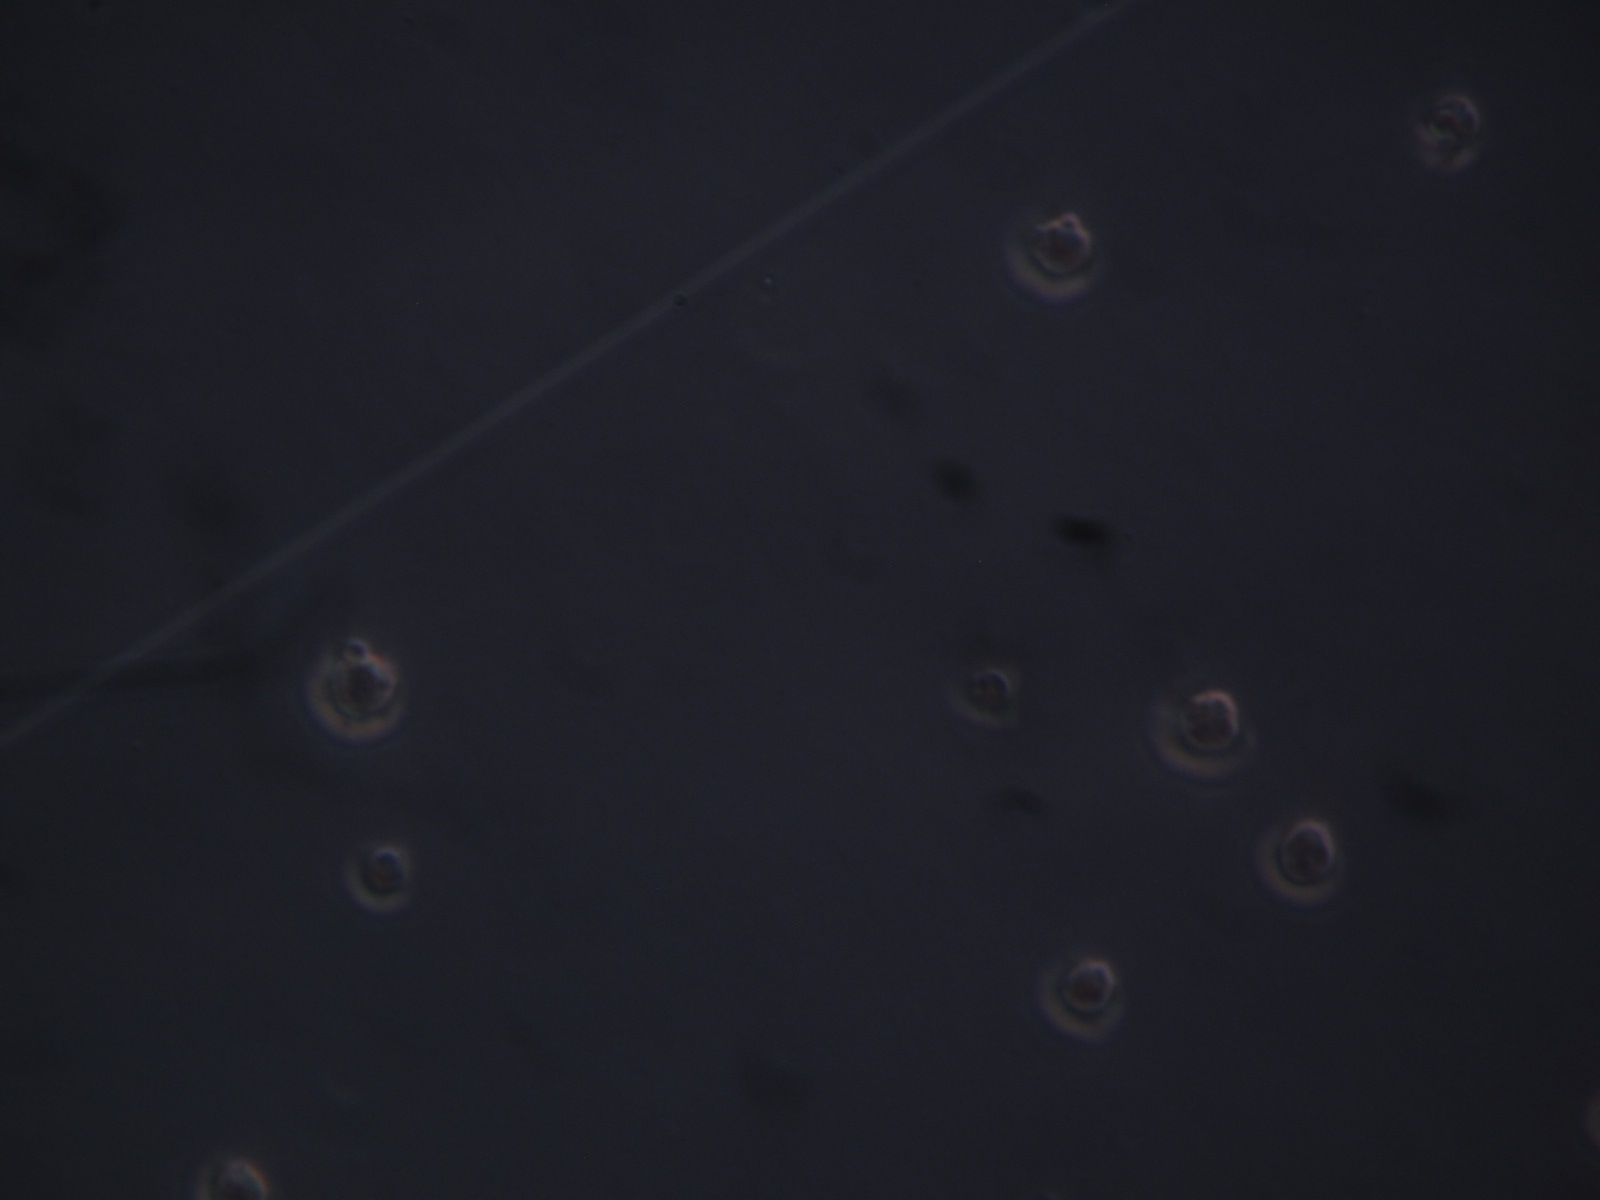hemo: (1146, 676, 1259, 784), (304, 652, 409, 739), (1259, 819, 1342, 908), (1037, 957, 1124, 1039), (1010, 221, 1097, 297), (1415, 89, 1482, 171), (946, 666, 1022, 734), (350, 842, 413, 913), (195, 1151, 270, 1200)
